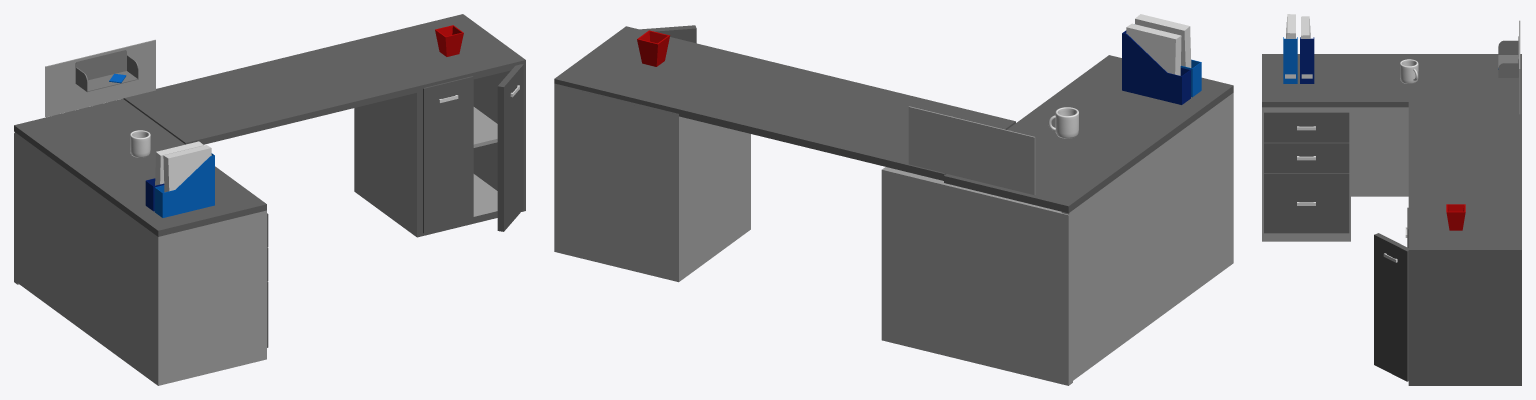
File: bureau_2.fbx
3 views of the same model, side by side, from view 1: azimuth 30°, elevation 25°; view 2: azimuth 150°, elevation 25°; view 3: azimuth 270°, elevation 25° (orthographic). The views are drawn at different scales.
Parts seen in each view (by area): view 1: bureau_2; view 2: bureau_2; view 3: bureau_2.
Boxes of the visible parts, bbox=[...] form: bureau_2: bbox=[14, 14, 525, 385]; bureau_2: bbox=[554, 14, 1233, 385]; bureau_2: bbox=[1262, 14, 1521, 385].
Bounding box in the file's own units: 6.26 × 2.84 × 3.48.
